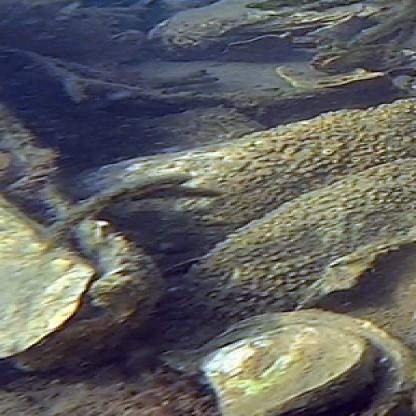Oyster-Closed: (66, 99, 416, 282), (178, 158, 416, 319), (200, 322, 378, 416), (0, 194, 86, 355)
